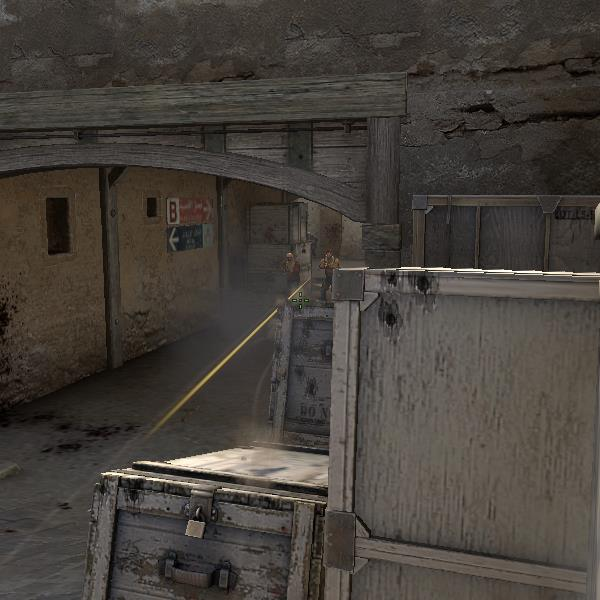t_body: (316, 246, 339, 299)
t_head: (322, 247, 335, 259)
